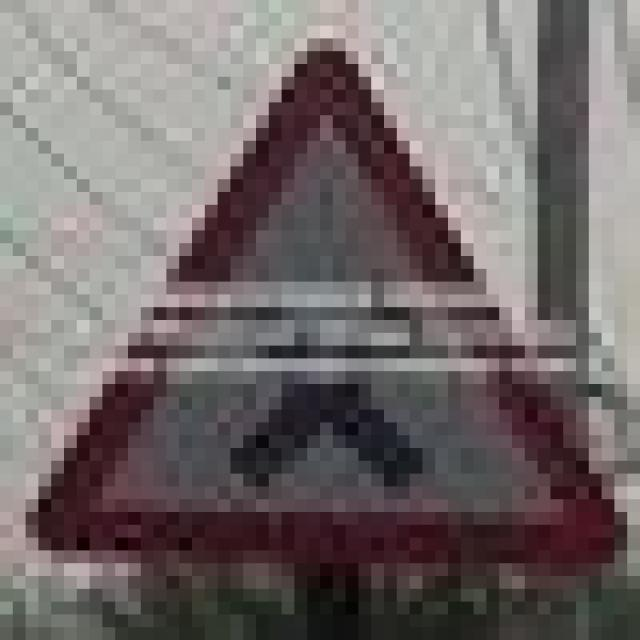CROSS_ROAD: (13, 26, 614, 588)
